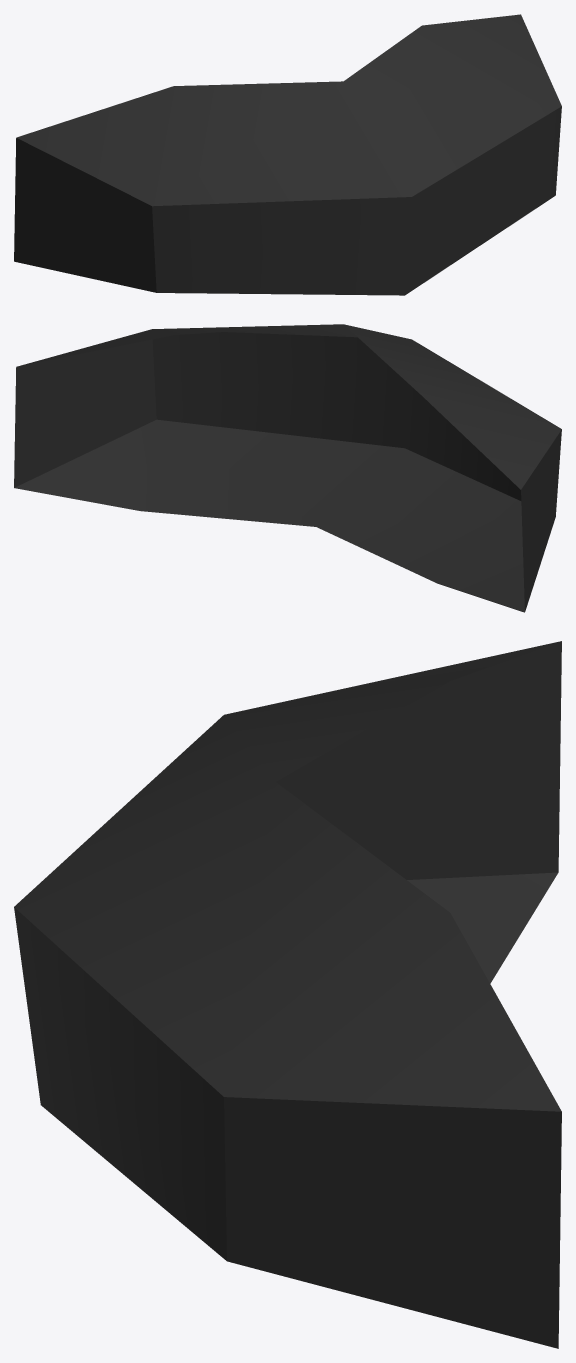
File: Male_Mustache_01.fbx
3 renders of one model, top to bottom at view 1: azimuth 30°, elevation 25°; view 2: azimuth 150°, elevation 25°; view 3: azimuth 270°, elevation 25°, orthographic. The views are drawn at different scales.
Visible parts, largest first — view 1: Male_Mustache_01; view 2: Male_Mustache_01; view 3: Male_Mustache_01.
Boxes of the visible parts, x1,y1,x2,y2 form: Male_Mustache_01: (14, 14, 561, 295); Male_Mustache_01: (14, 324, 561, 612); Male_Mustache_01: (14, 641, 561, 1348).
Size of the model in its own units: 23.74 by 8.13 by 11.54.
